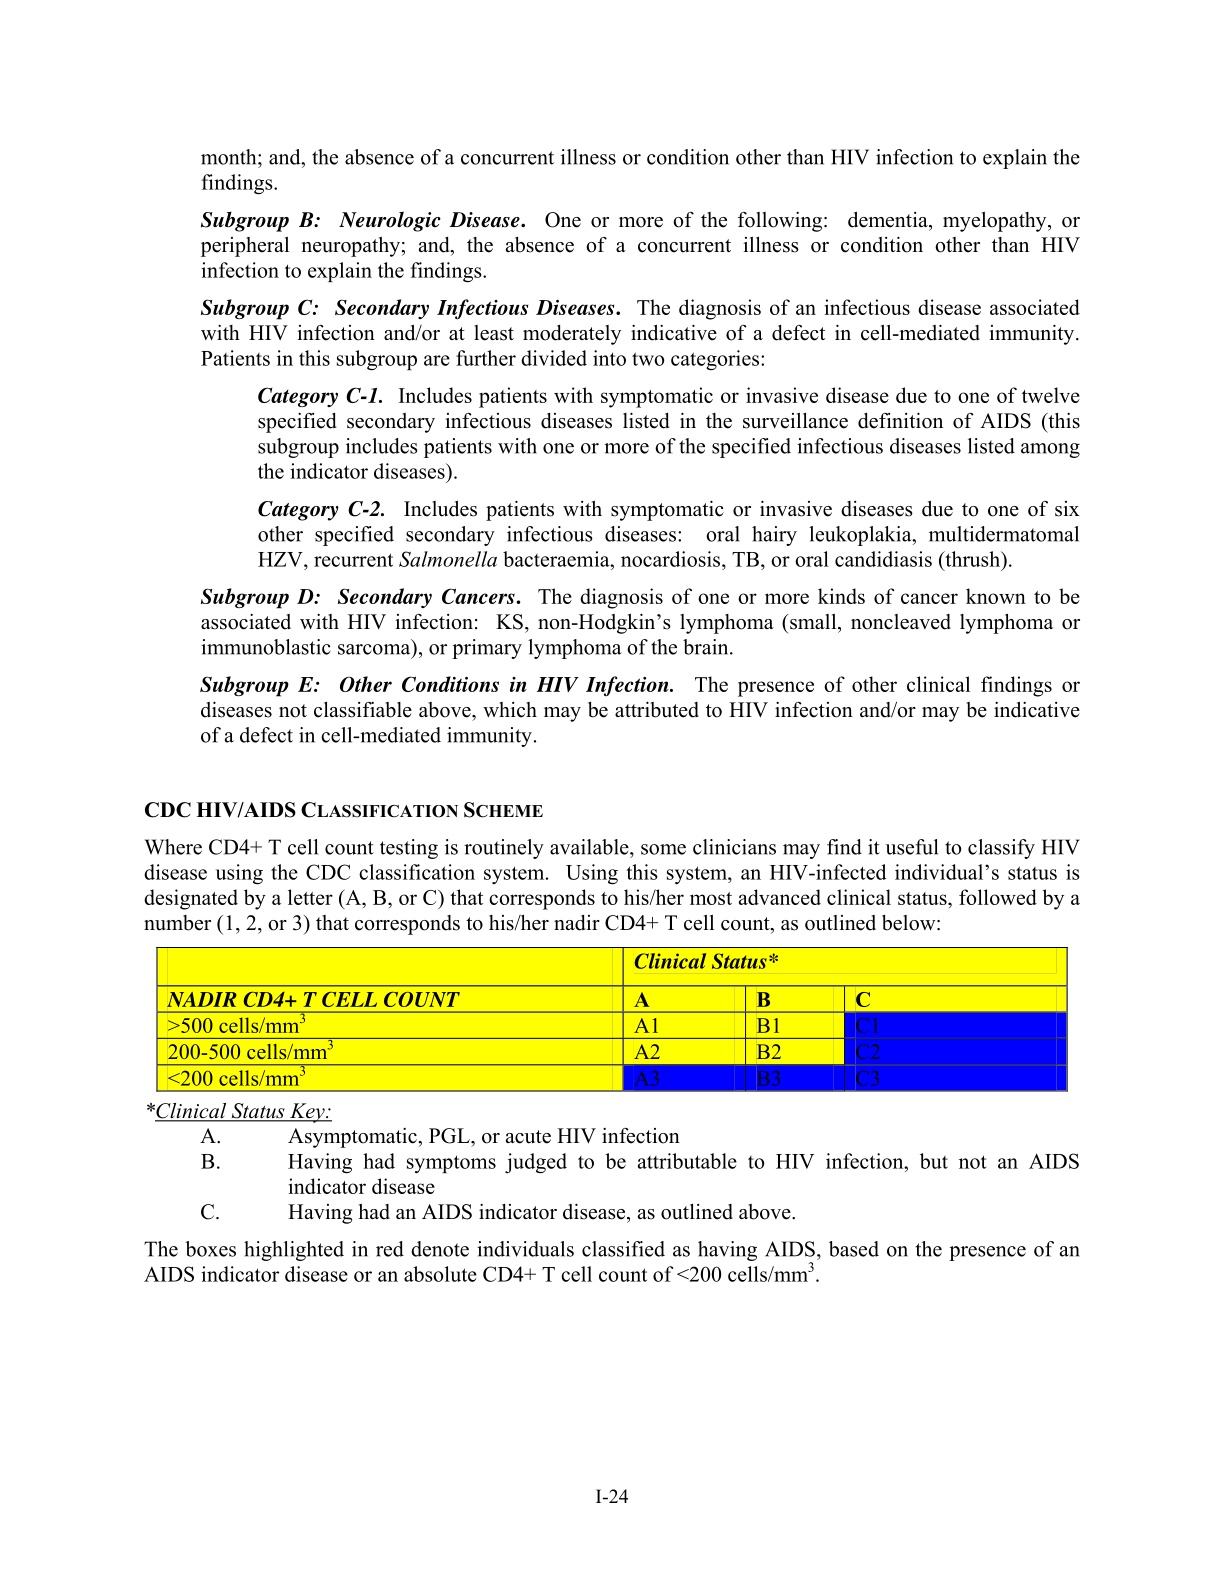merged_cells: (156, 946, 1068, 1092)
